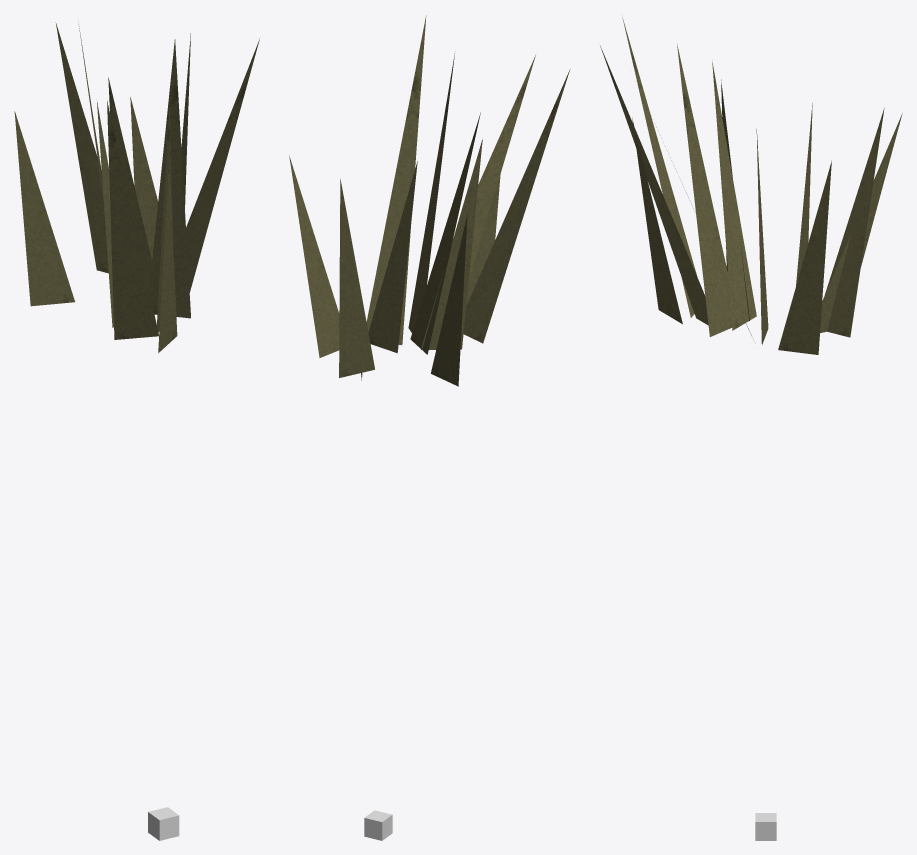
Rendered from weeds.glb.
3 views of the same model, side by side, from view 1: azimuth 30°, elevation 25°; view 2: azimuth 150°, elevation 25°; view 3: azimuth 270°, elevation 25° (orthographic). The views are drawn at different scales.
Parts seen in each view (by area): view 1: weeds, COL_HULL_NONE; view 2: weeds, COL_HULL_NONE; view 3: weeds, COL_HULL_NONE.
Part boxes in pixels (<box>): weeds: <box>14,21,259,352</box>; COL_HULL_NONE: <box>148,807,179,840</box>; weeds: <box>289,15,570,386</box>; COL_HULL_NONE: <box>364,810,392,840</box>; weeds: <box>600,17,902,354</box>; COL_HULL_NONE: <box>755,813,776,840</box>.
Size of the model in its own units: 0.3995 by 1.64 by 0.5752.
1 material, 1 textured.
